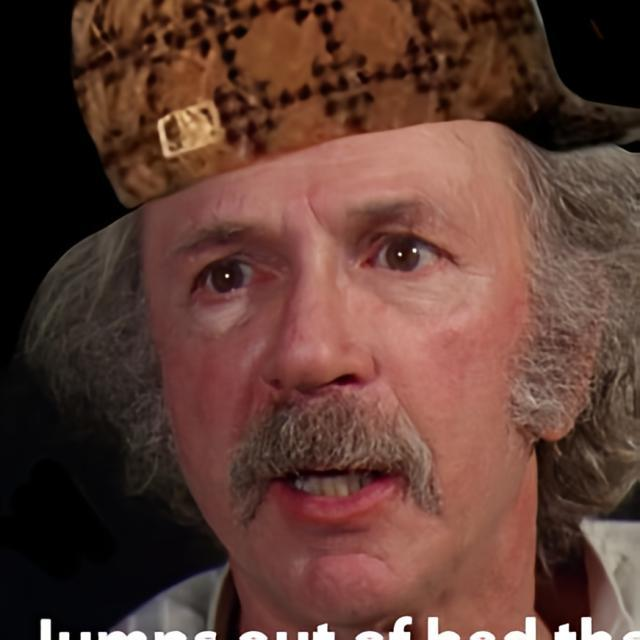fear: (138, 102, 538, 618)
